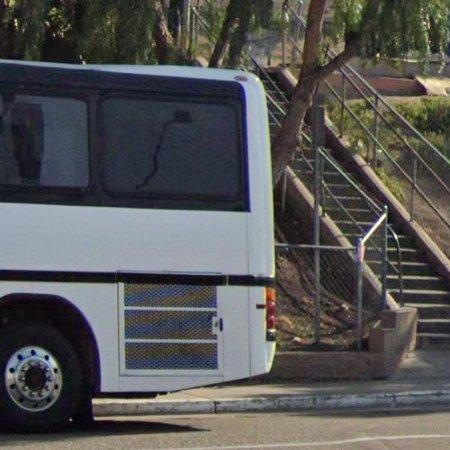stairs: (366, 219, 450, 346), (318, 147, 386, 252), (256, 65, 288, 130), (291, 127, 314, 189)
